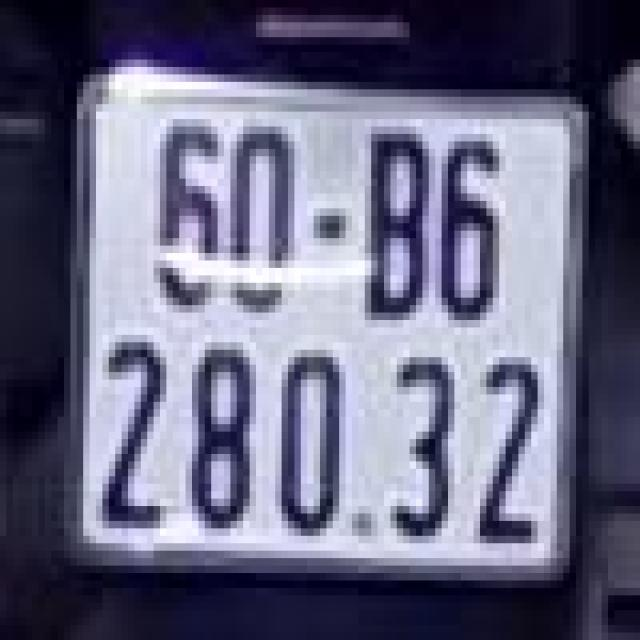0: (275, 338, 352, 540), (230, 111, 294, 312)
2: (476, 335, 554, 573), (99, 320, 170, 543)
3: (381, 339, 464, 547)
6: (150, 104, 228, 328), (448, 115, 512, 339)
8: (179, 331, 275, 555)
B: (362, 108, 438, 324)
